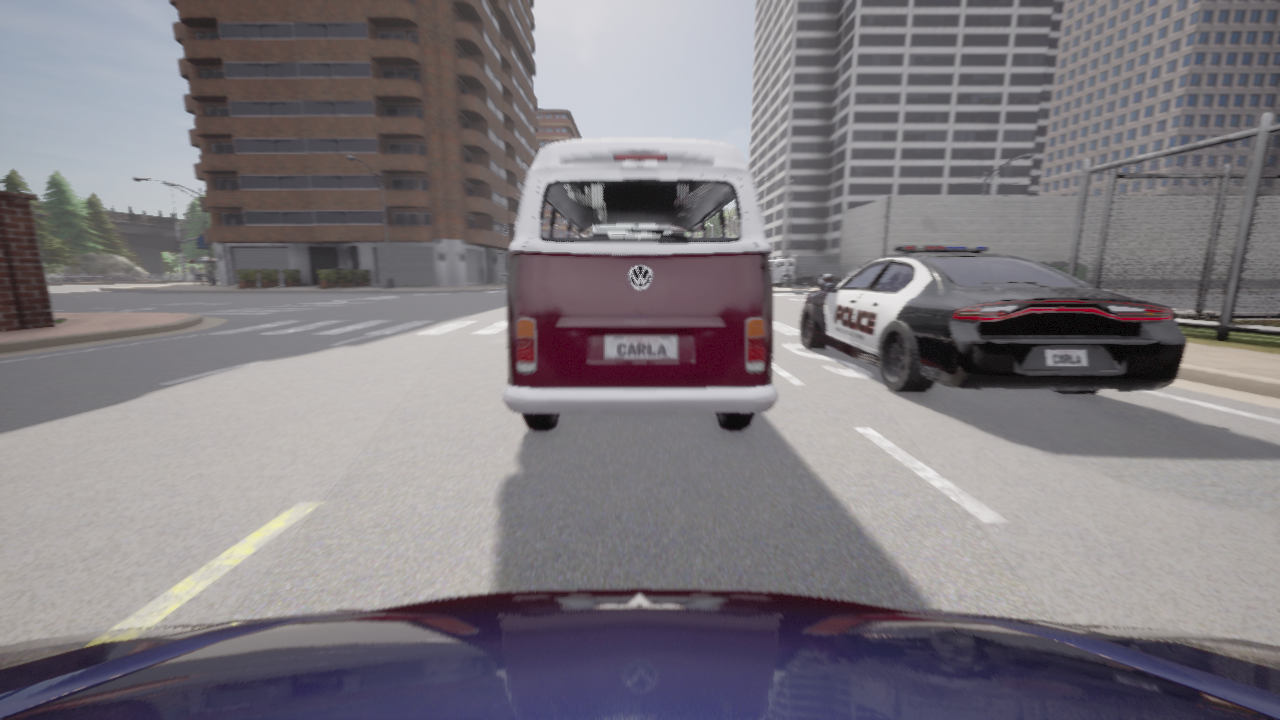cyclist: (0, 588, 1279, 719), (503, 138, 778, 430), (800, 245, 1186, 394), (770, 255, 840, 286), (770, 256, 807, 285)
